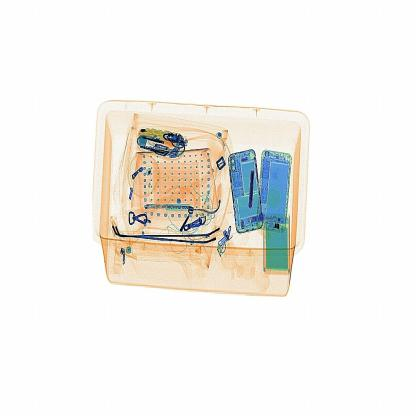knife: (240, 161, 261, 218)
